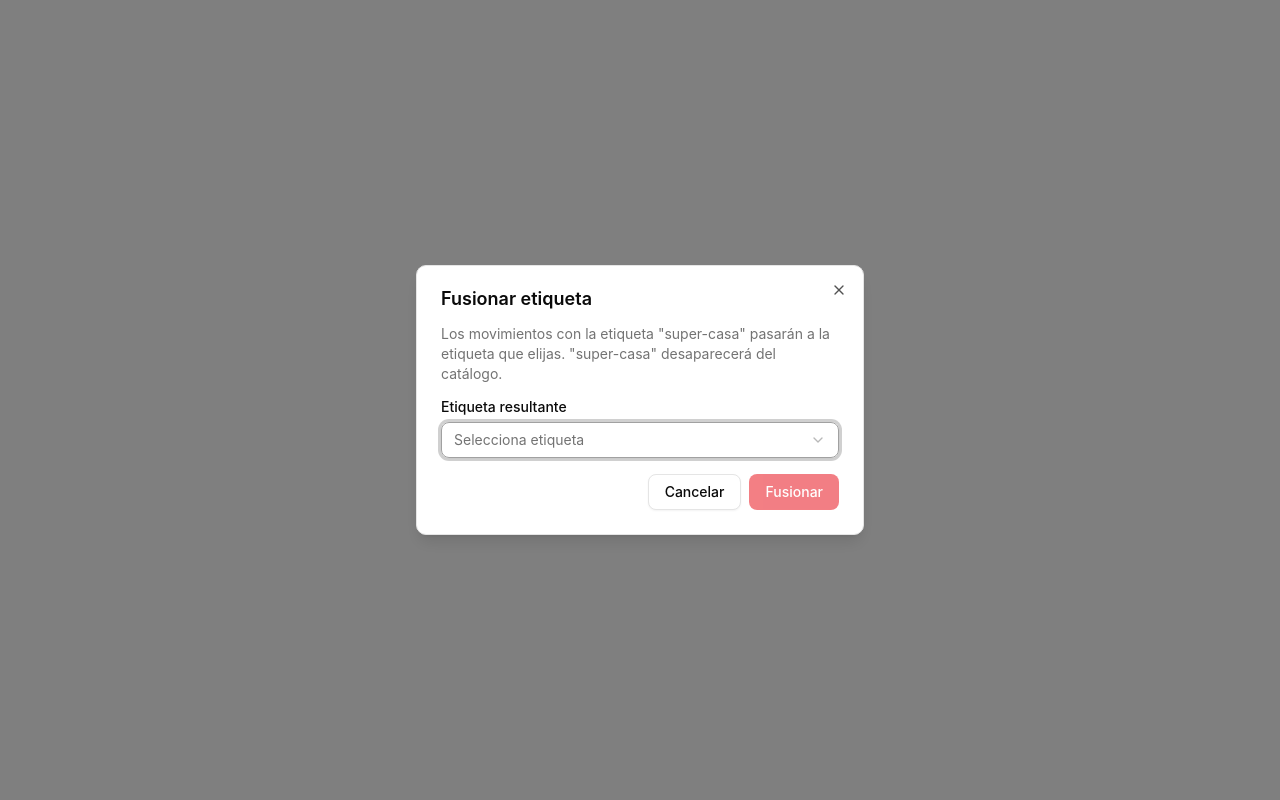
MergeTagsDialog › «Fusionar» deshabilitado sin destino y habilitado al elegirlo
Expected: the button "Fusionar" is disabled, 750,474 -> 839,510
Click the dropdown named "Etiqueta resultante" at (519, 440), box 441,422 -> 839,458
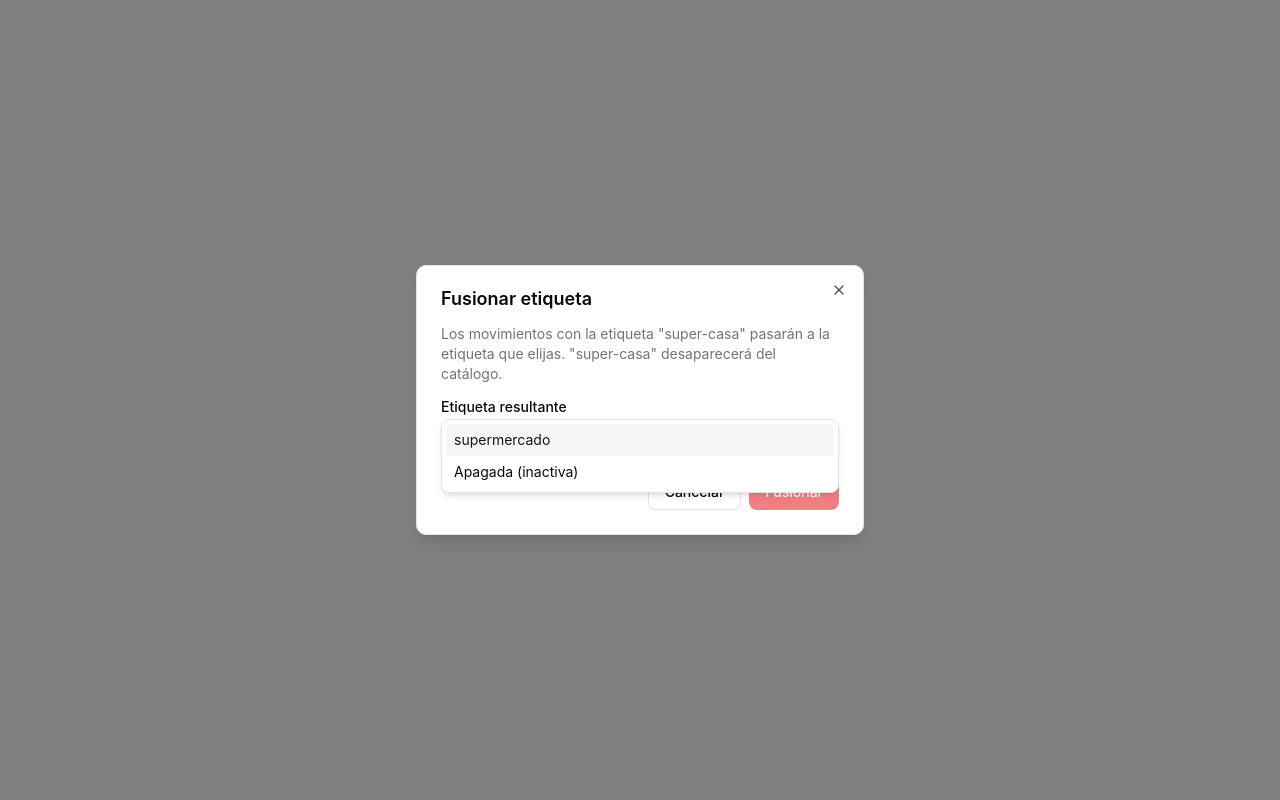
Click the option "supermercado" at (502, 440), box 446,424 -> 834,456
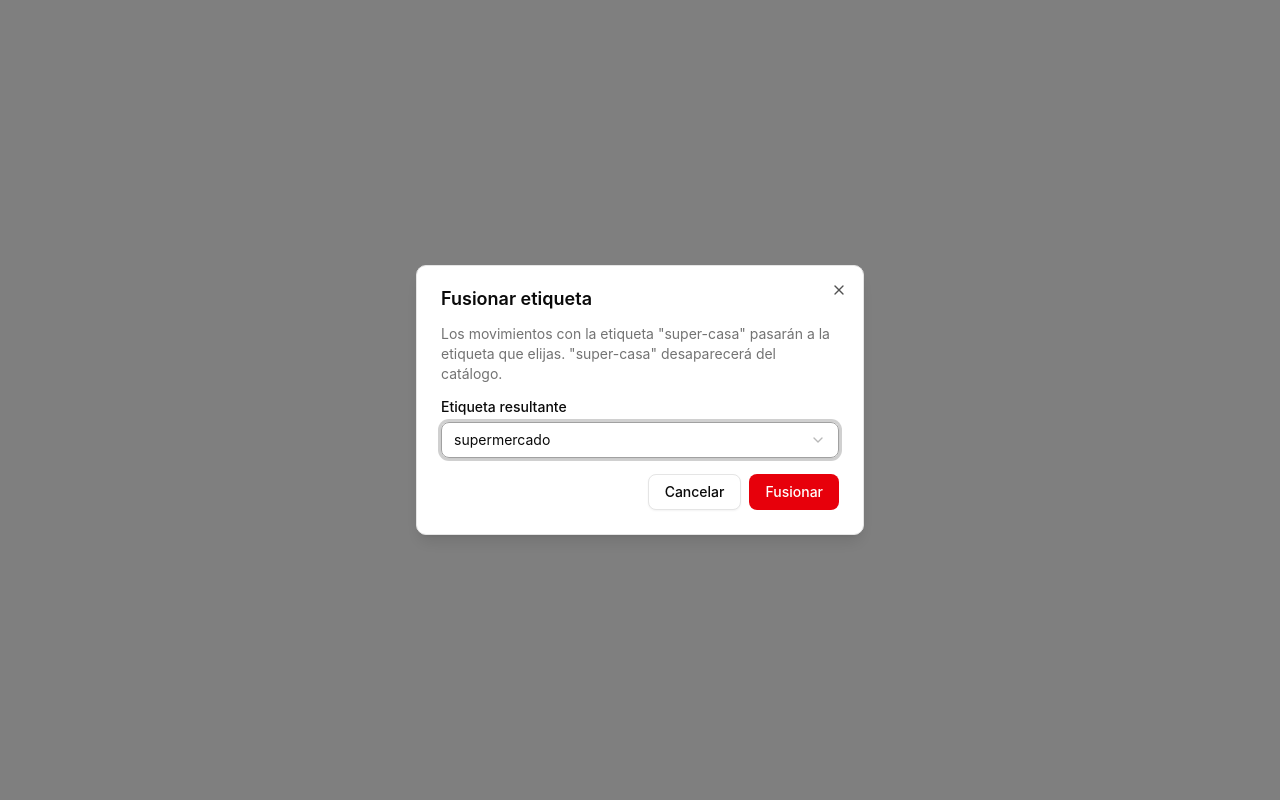
Expected: the button "Fusionar" is enabled, 750,474 -> 839,510
